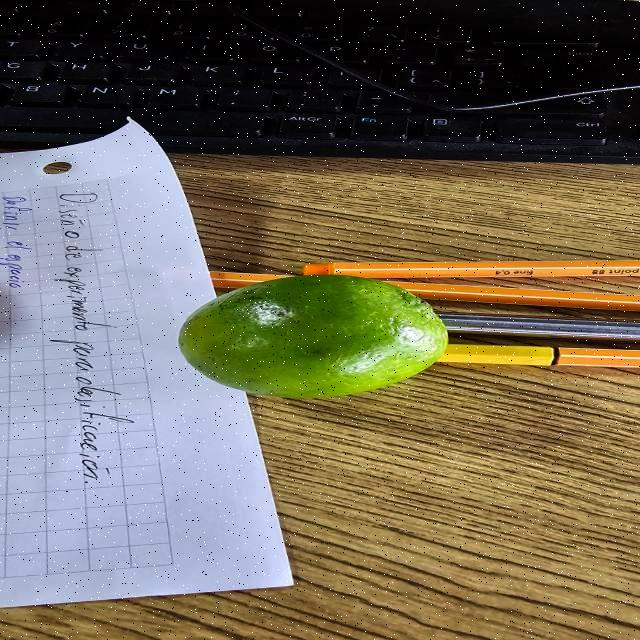Lemon: (169, 270, 456, 403)
